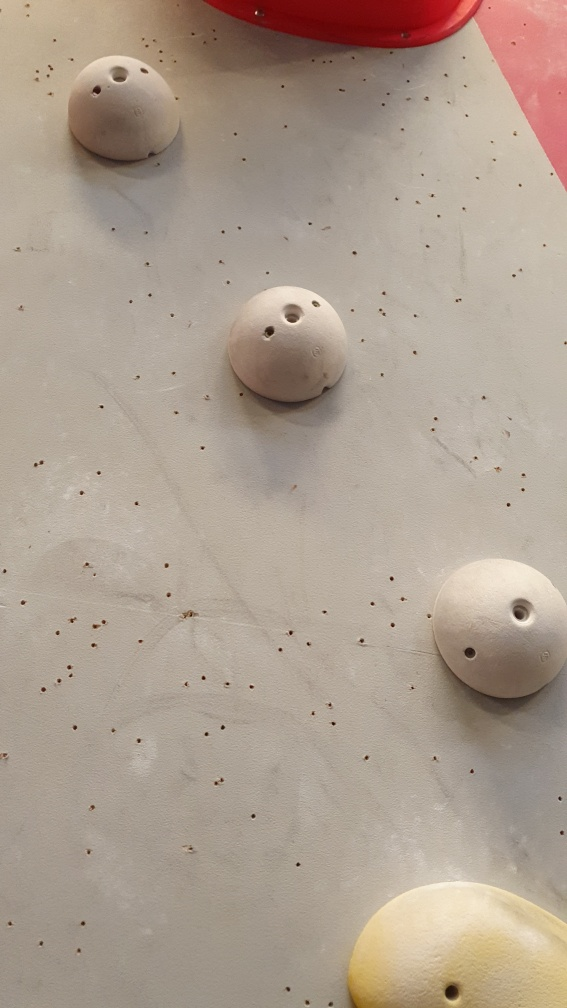Sloper: (427, 559, 567, 705), (230, 279, 353, 409), (62, 54, 182, 170)
